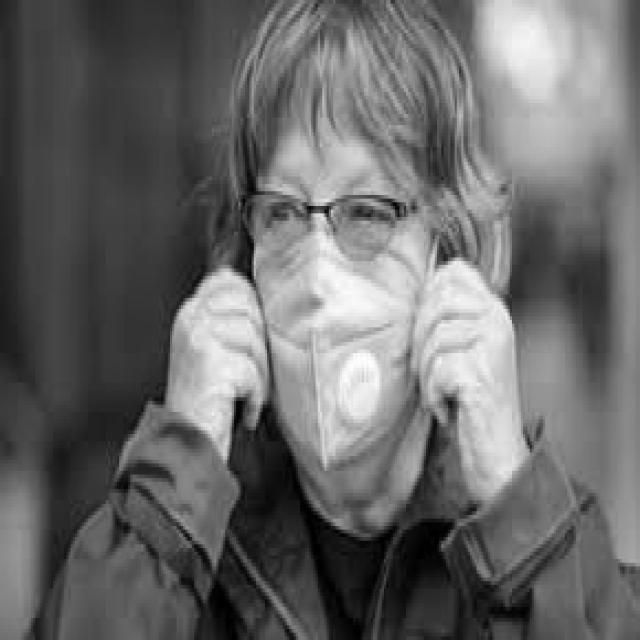with_mask: (250, 217, 428, 471)
